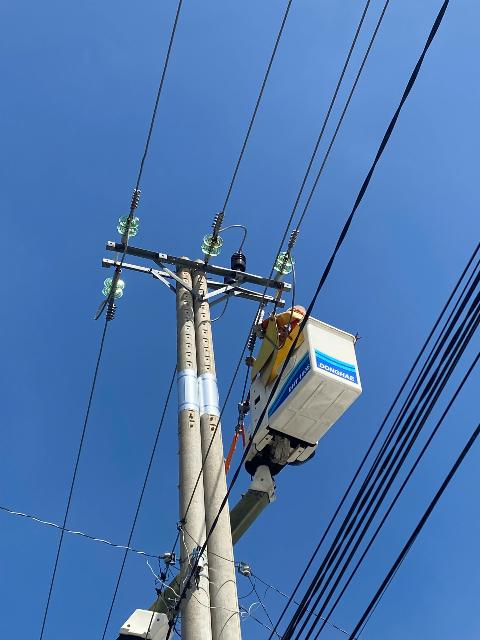gloves: (244, 355, 260, 368)
helmet: (283, 304, 308, 315)
